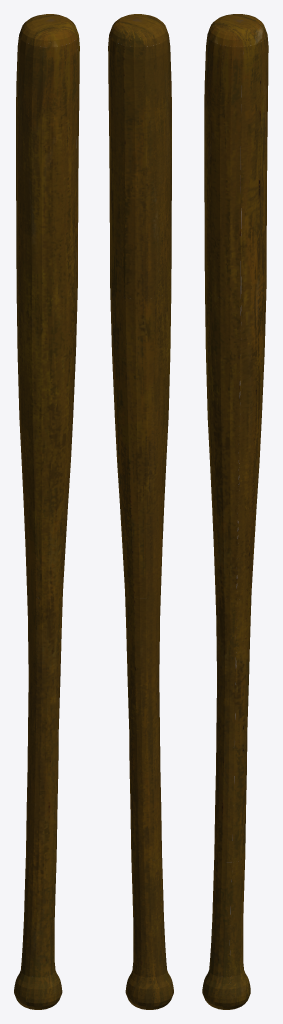
File: PRAWIDŁOWA PAŁA SAHURA.glb
The picture shows the model from 3 angles, left to right: view 1: azimuth 30°, elevation 25°; view 2: azimuth 150°, elevation 25°; view 3: azimuth 330°, elevation 25°; orthographic projection.
Visible parts, largest first — view 1: Cylinder; view 2: Cylinder; view 3: Cylinder.
Boxes of the visible parts, box(x1,y1,x2,y2) form: Cylinder: box(14, 14, 79, 1009); Cylinder: box(108, 14, 173, 1009); Cylinder: box(202, 14, 268, 1009).
Bounding box in the file's own units: 0.0918 × 1.49 × 0.0873.
1 material, 1 textured.
